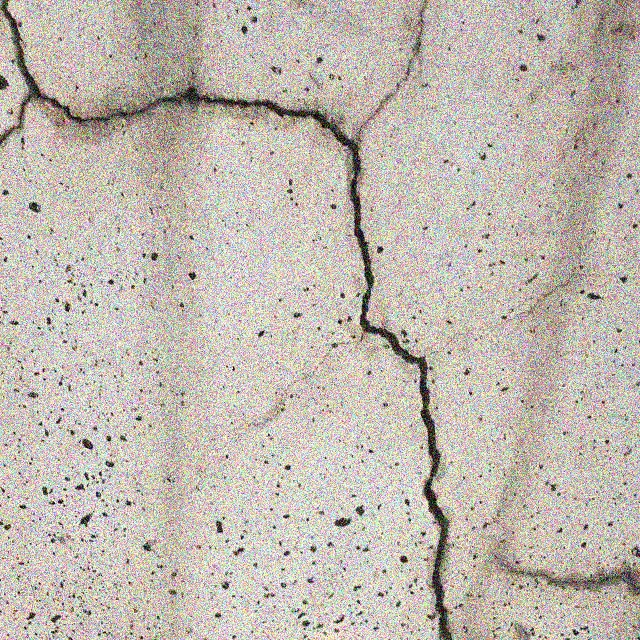SurfaceCrack: (215, 2, 497, 639), (491, 534, 640, 640)
